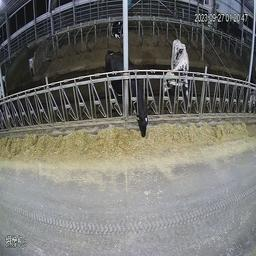cow: (106, 51, 149, 137), (154, 35, 185, 110), (111, 20, 123, 38)
